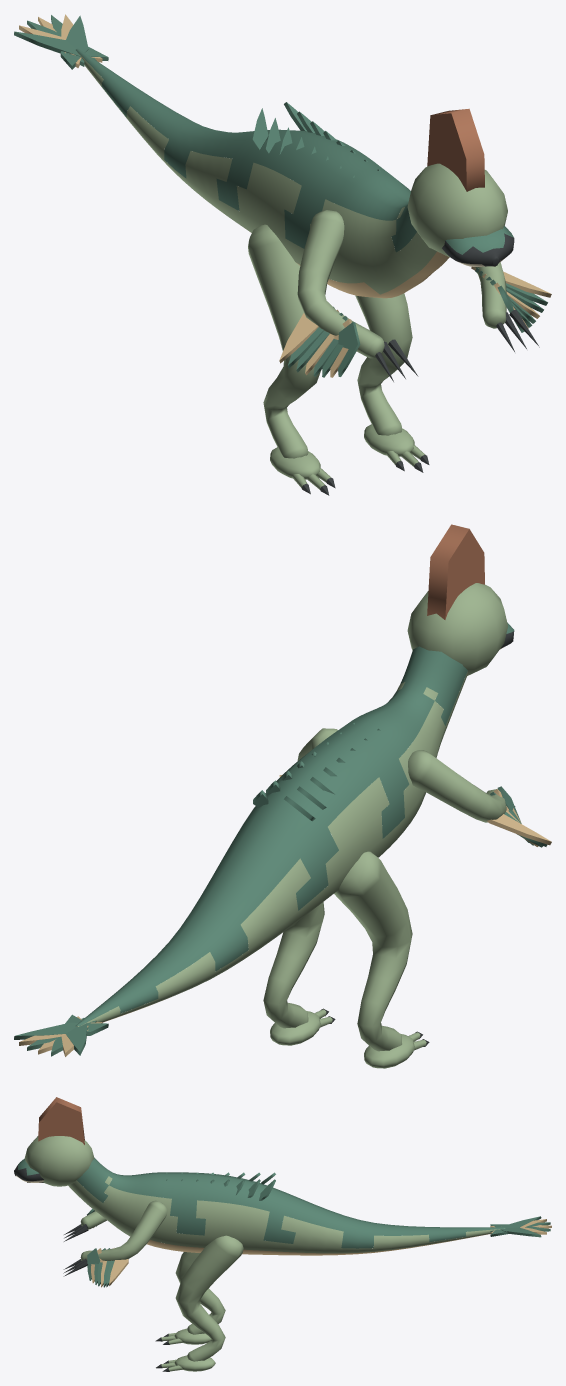
The model's file is oviraptor.glb.
The picture shows the model from 3 angles, top to bottom: view 1: azimuth 30°, elevation 25°; view 2: azimuth 150°, elevation 25°; view 3: azimuth 270°, elevation 25°; orthographic projection. The views are drawn at different scales.
Parts seen in each view (by area): view 1: oviraptor; view 2: oviraptor; view 3: oviraptor.
Part boxes in pixels (left/top/right/bottom): oviraptor: left=14, top=14, right=551, bottom=495; oviraptor: left=14, top=524, right=551, bottom=1068; oviraptor: left=14, top=1097, right=551, bottom=1371.
Size of the model in its own units: 1.08 by 1.66 by 3.15.
